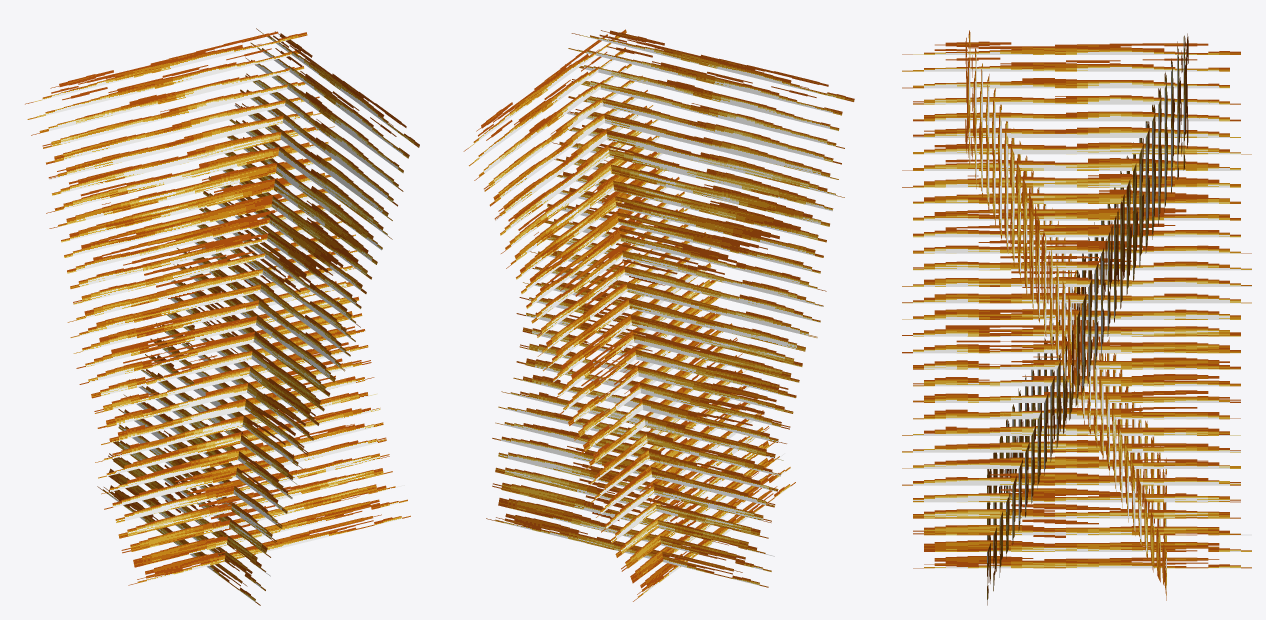
The model's file is block_fire_floor0.gltf.
The picture shows the model from 3 angles, left to right: view 1: azimuth 30°, elevation 25°; view 2: azimuth 150°, elevation 25°; view 3: azimuth 270°, elevation 25°; orthographic projection. The views are drawn at different scales.
Parts seen in each view (by area): view 1: cube (×2); view 2: cube (×2); view 3: cube (×3).
Part boxes in pixels (bbox=[...]): cube (×2): bbox=[25, 28, 419, 605]; cube (×2): bbox=[463, 29, 854, 601]; cube (×3): bbox=[902, 30, 1251, 605].
Bounding box in the file's own units: 1 × 1.44 × 1.
1 material, 1 textured.
